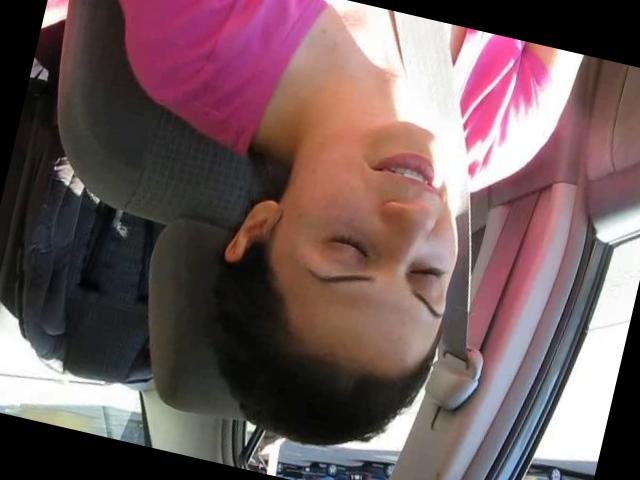eye_closed: (319, 224, 382, 270), (403, 250, 453, 292)
face: (277, 100, 490, 348)
